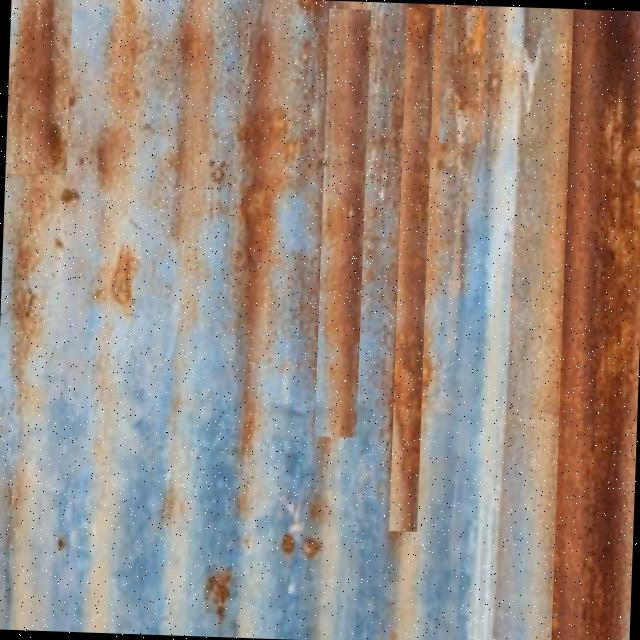Corrosion: (0, 0, 640, 640), (549, 9, 640, 640)
